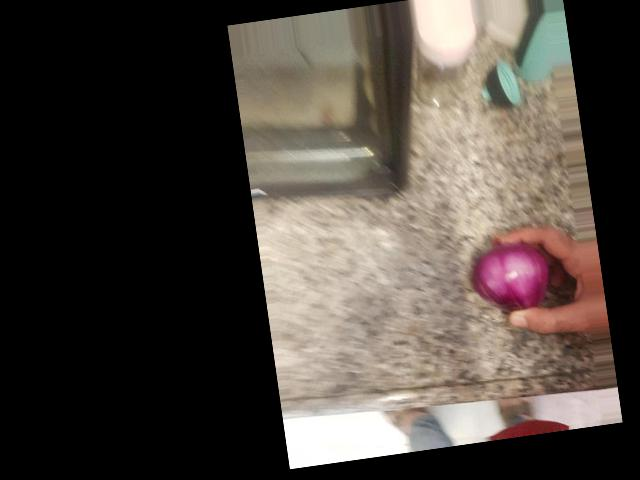onion: (278, 240, 364, 338)
